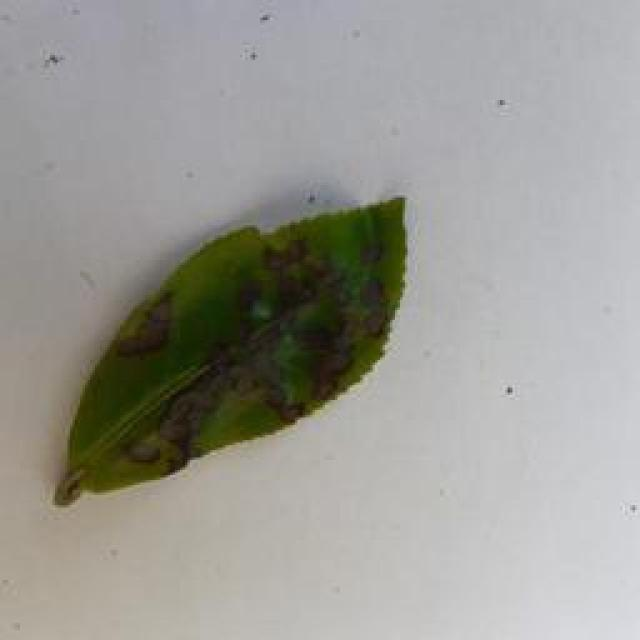Helopeltis: (49, 176, 418, 511)
